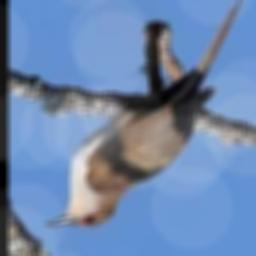Cuckoo: (43, 0, 242, 228)
